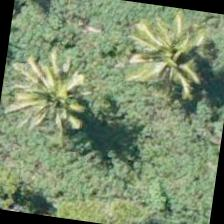Kelapa_Sawit: (4, 41, 106, 143), (119, 5, 220, 108)
